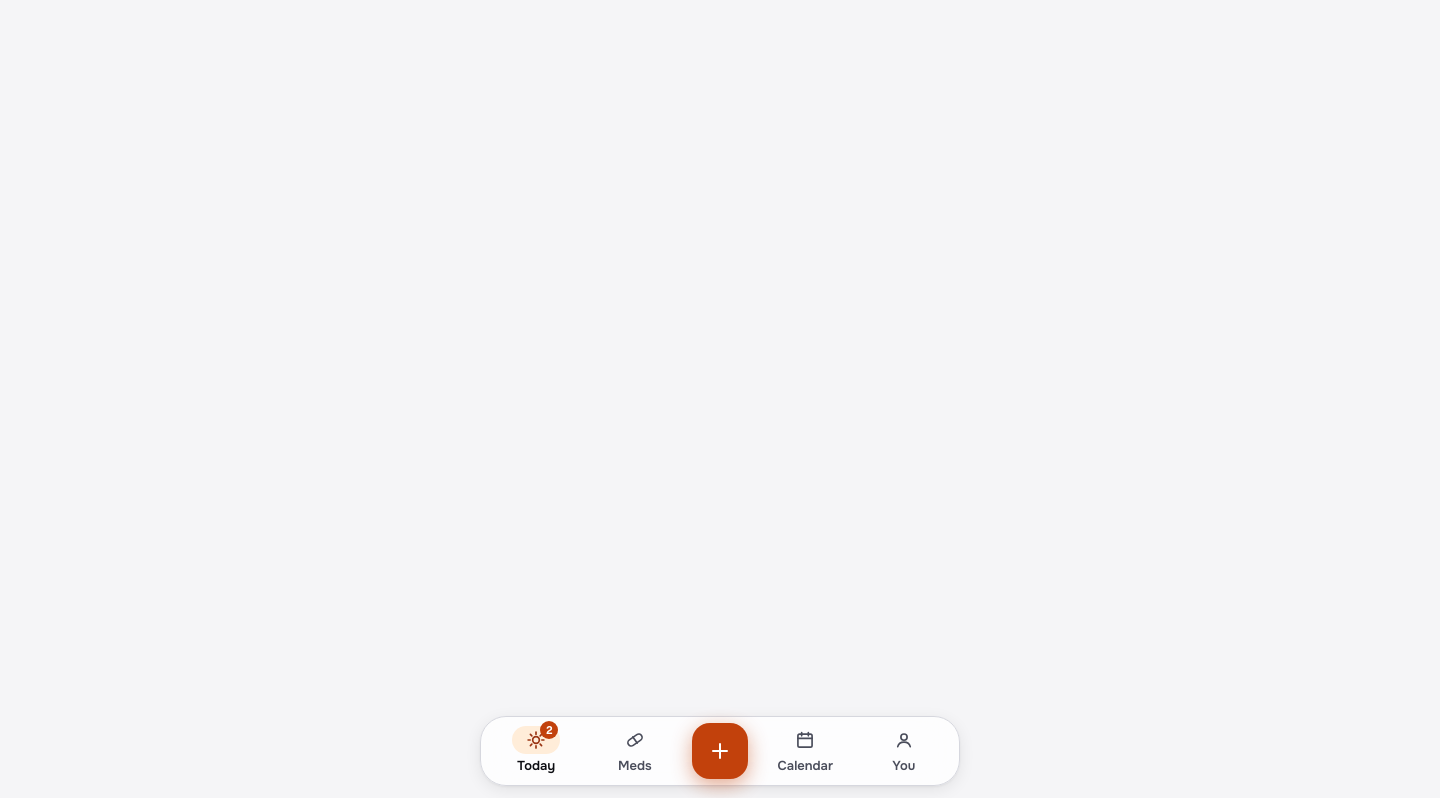
Test case: Meds › adds a med from the quick-add sheet in the tab bar
The image size is (1440, 798).
Click the button named "Add" at {"x": 720, "y": 751}, box [692,723,748,779]
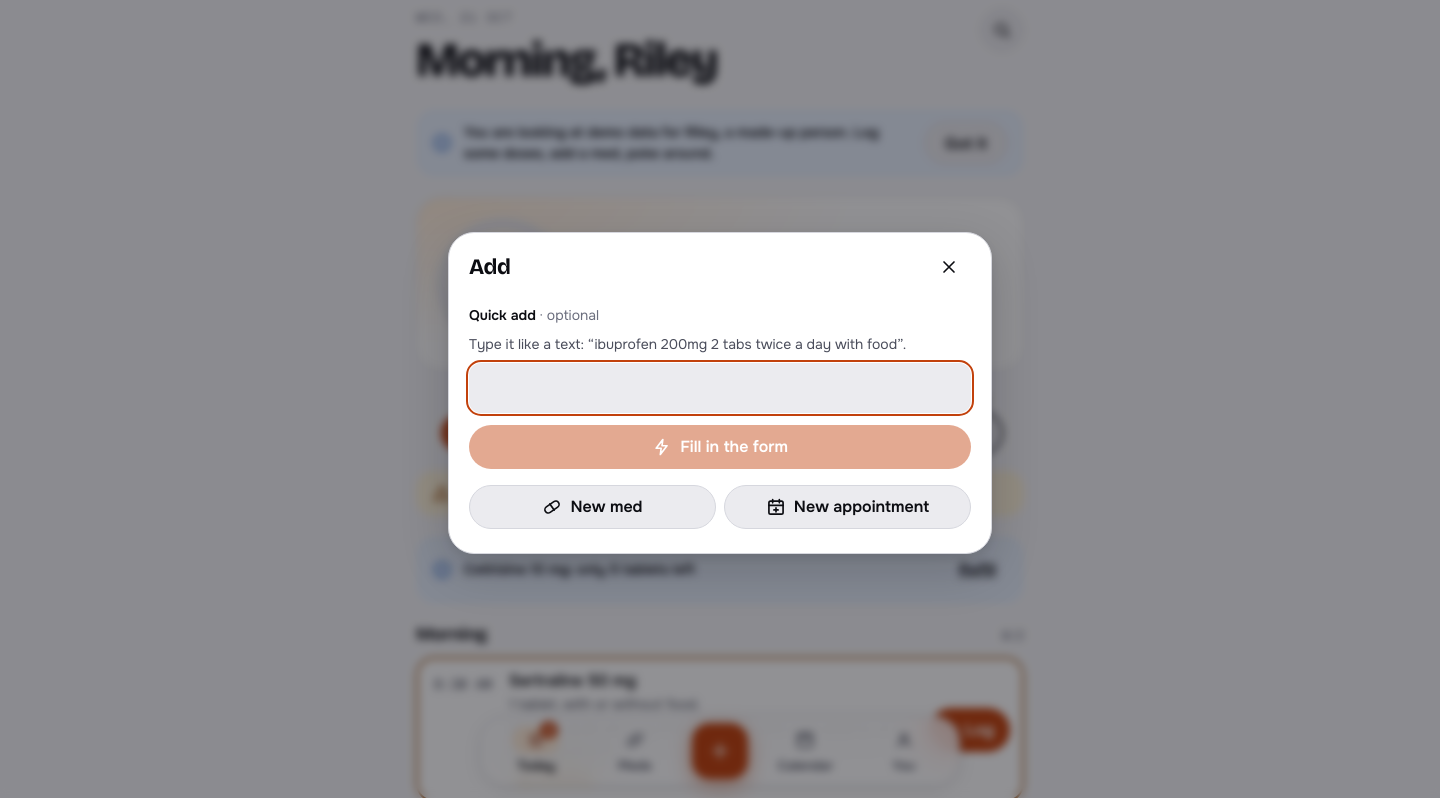
Type "melatonin 3mg at 10:30pm" into the field labelled "Quick add · optional" at {"x": 720, "y": 388}, box [469,363,971,413]
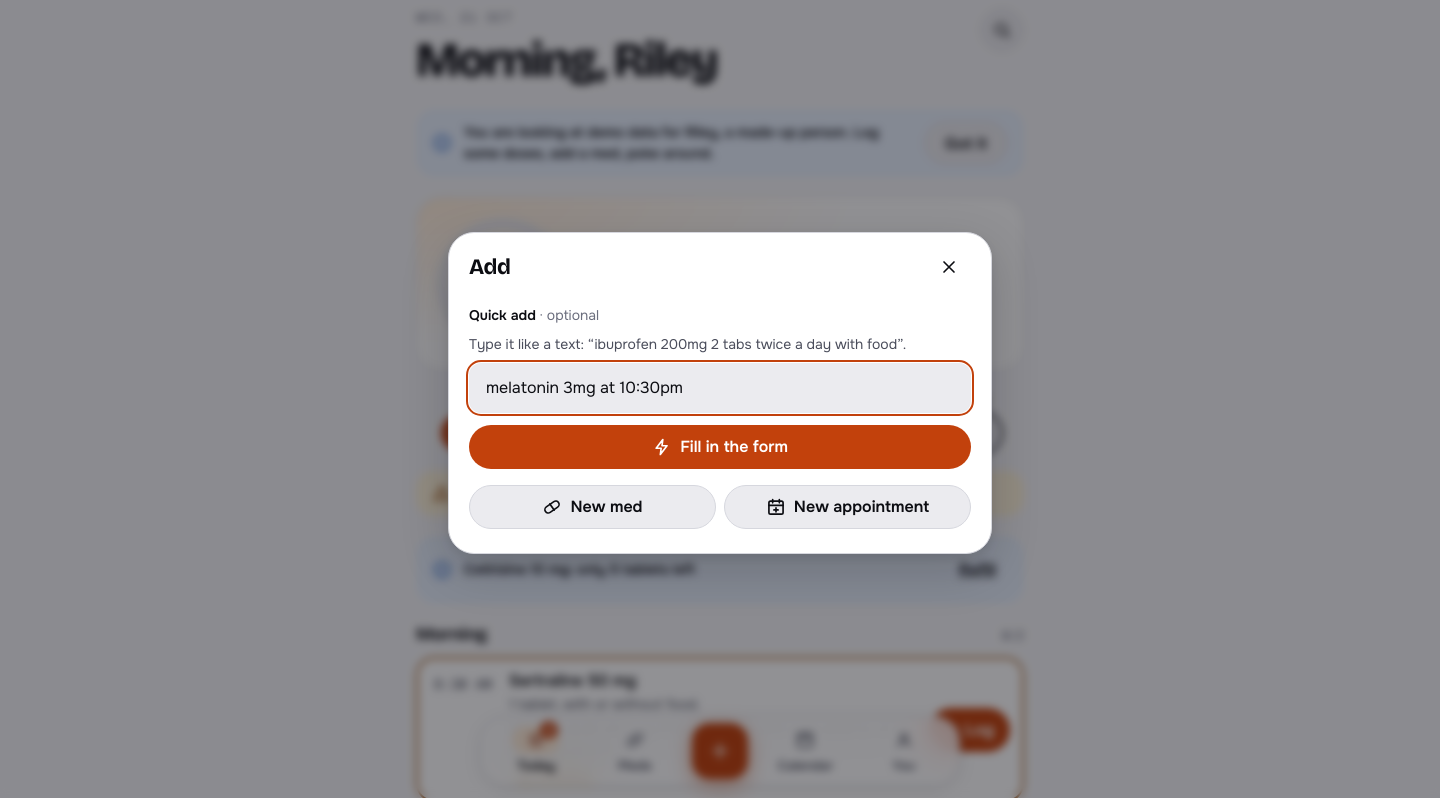
Click the button "Fill in the form" at {"x": 720, "y": 447}, box [469,425,971,469]
(page scrolled)
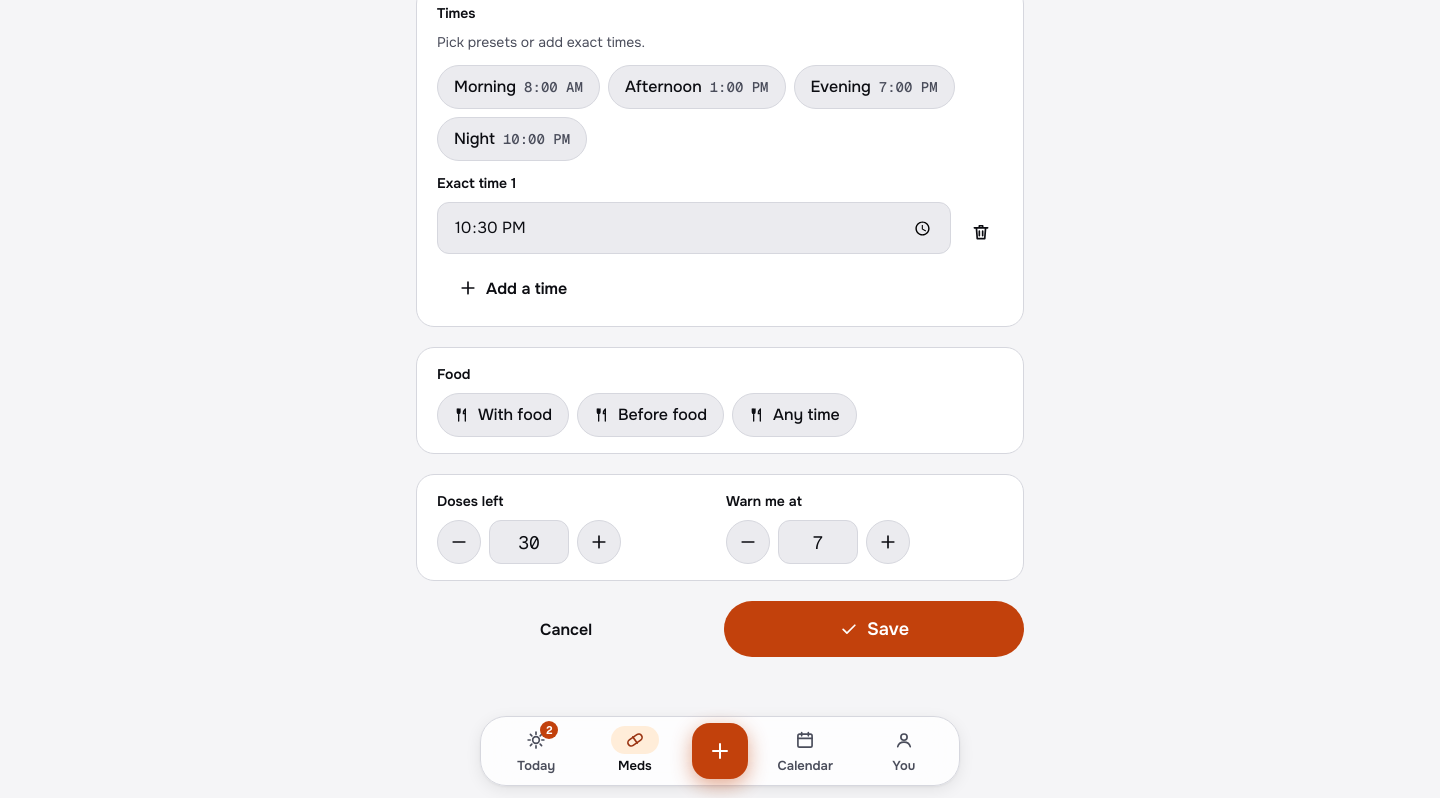
Expected: the time field labelled "Exact time 1" holds "22:30", [437,202,951,254]
Food is a real question with no default.
Click the button "Save" at {"x": 874, "y": 630}, box [724,602,1024,658]
(page scrolled)
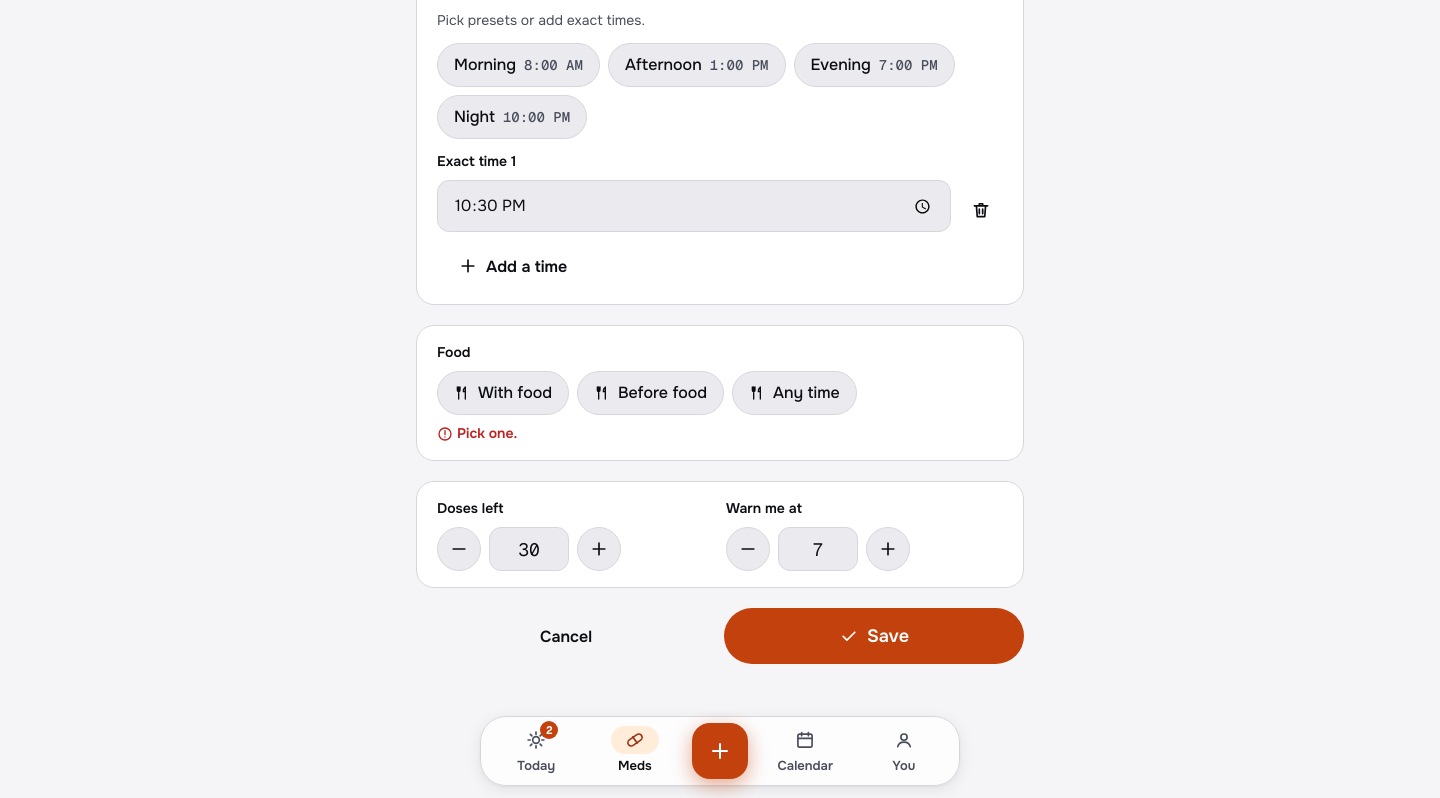
Click the radio button labelled "Any time" at {"x": 794, "y": 394}, box [732,372,857,416]
(page scrolled)
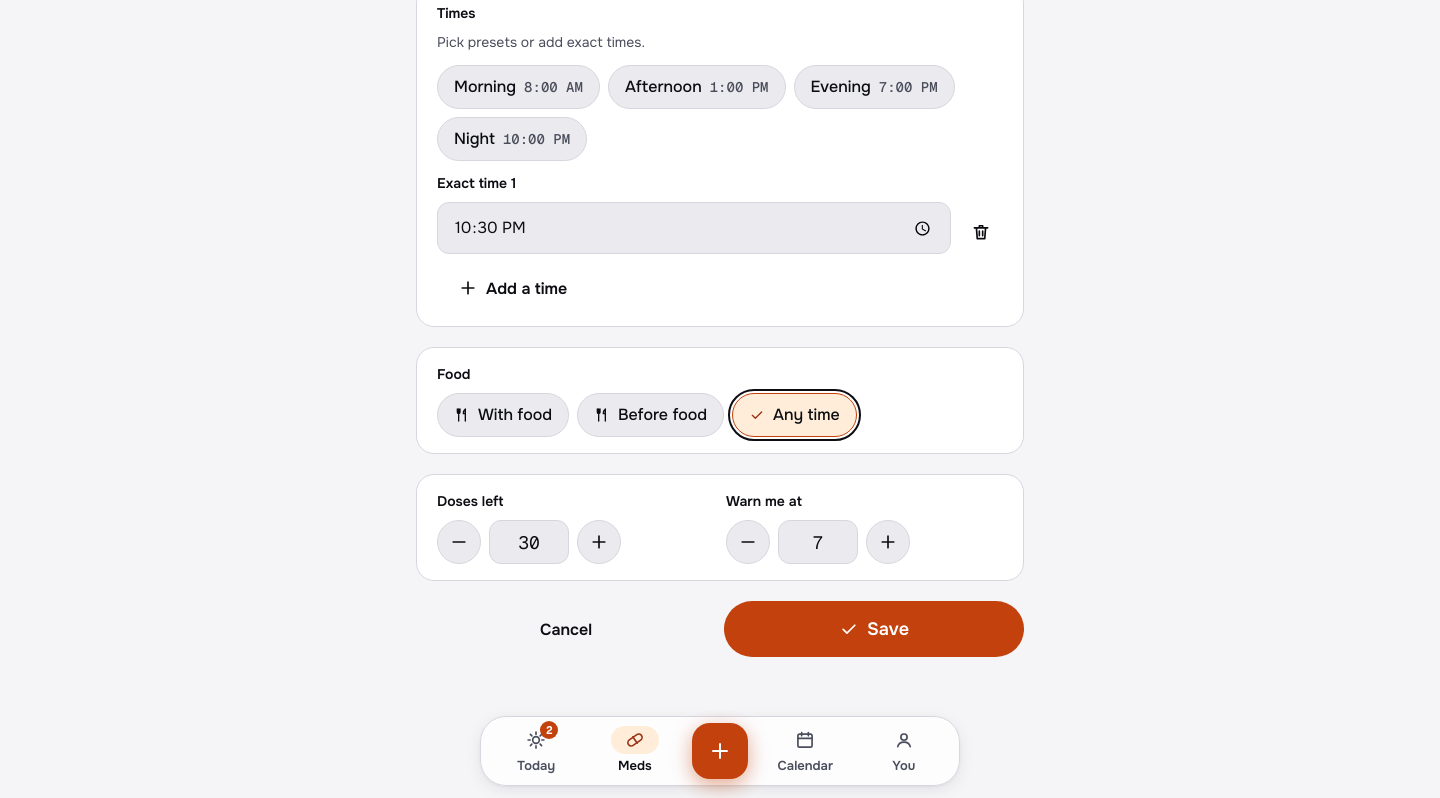
Click the button "Save" at {"x": 874, "y": 630}, box [724,602,1024,658]
(page scrolled)
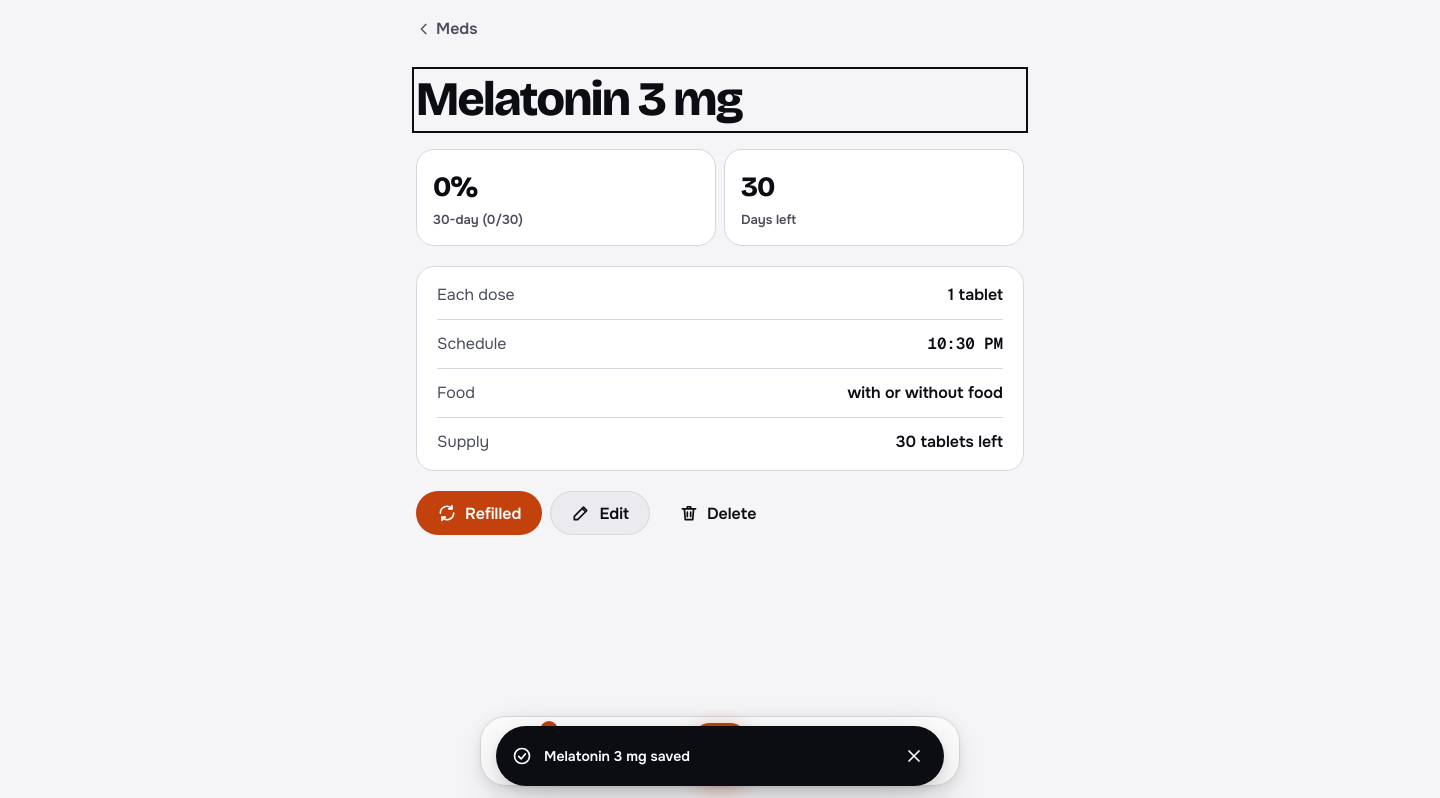
Expected: the heading "Melatonin 3 mg" is shown, [416,70,742,128]
